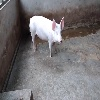heo: (27, 12, 65, 58)
